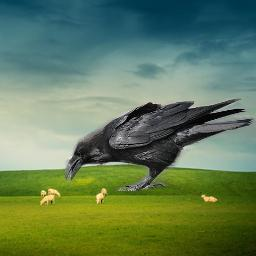Crow: (65, 98, 255, 191)
